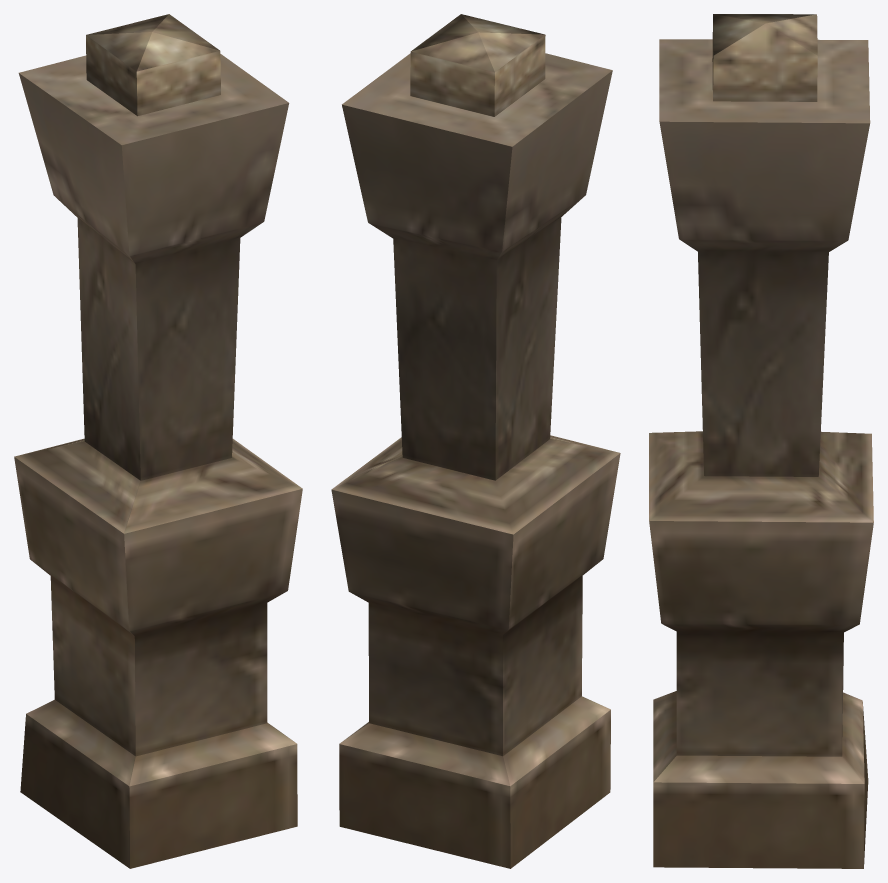
File: rysd_langan_a.FBX
The picture shows the model from 3 angles, left to right: view 1: azimuth 30°, elevation 25°; view 2: azimuth 150°, elevation 25°; view 3: azimuth 270°, elevation 25°; orthographic projection. The views are drawn at different scales.
Parts seen in each view (by area): view 1: langan_a; view 2: langan_a; view 3: langan_a.
Boxes of the visible parts, box(x1,y1,x2,y2) form: langan_a: box(14, 14, 302, 868); langan_a: box(331, 14, 620, 868); langan_a: box(649, 14, 873, 868).
Bounding box in the file's own units: 94.34 × 389 × 99.01.
